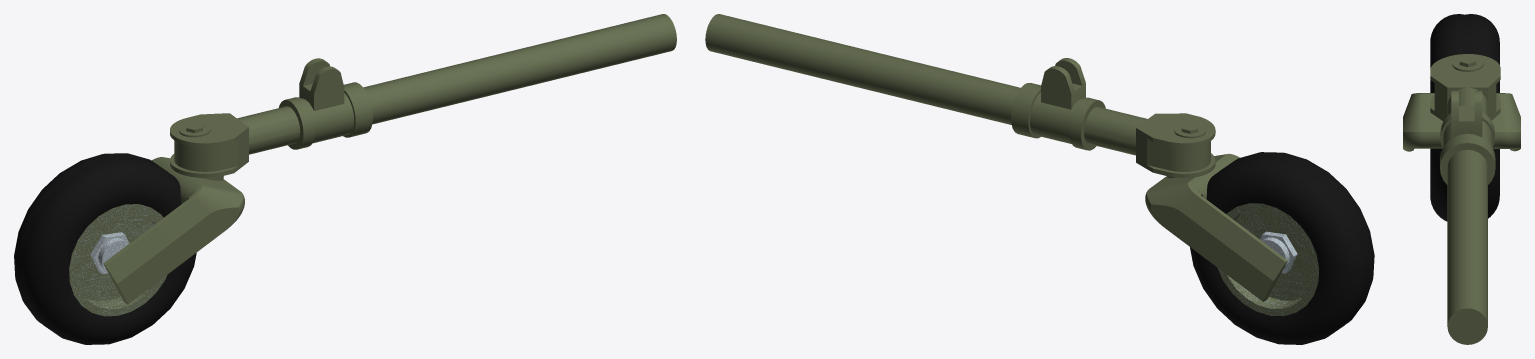
Rendered from miniwheel.fbx.
The picture shows the model from 3 angles, left to right: view 1: azimuth 30°, elevation 25°; view 2: azimuth 150°, elevation 25°; view 3: azimuth 270°, elevation 25°; orthographic projection. The views are drawn at different scales.
Visible parts, largest first — view 1: Model; view 2: Model; view 3: Model.
Boxes of the visible parts, x1,y1,x2,y2 form: Model: (14,14,676,344); Model: (705,14,1374,344); Model: (1403,14,1520,344).
Bounding box in the file's own units: 75.64 × 24.66 × 11.26.
